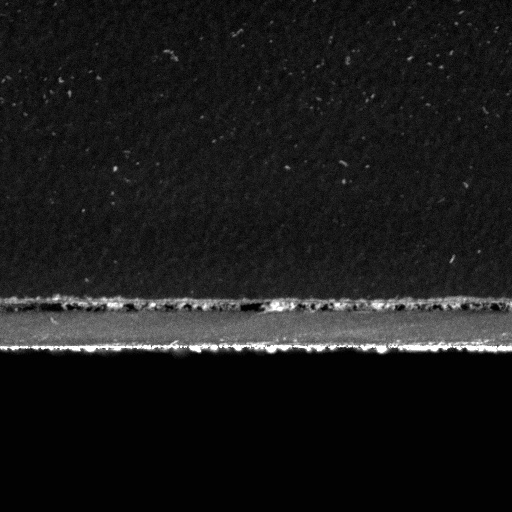jiaofeng: (8, 298, 107, 316), (398, 301, 508, 315), (201, 300, 273, 315)
